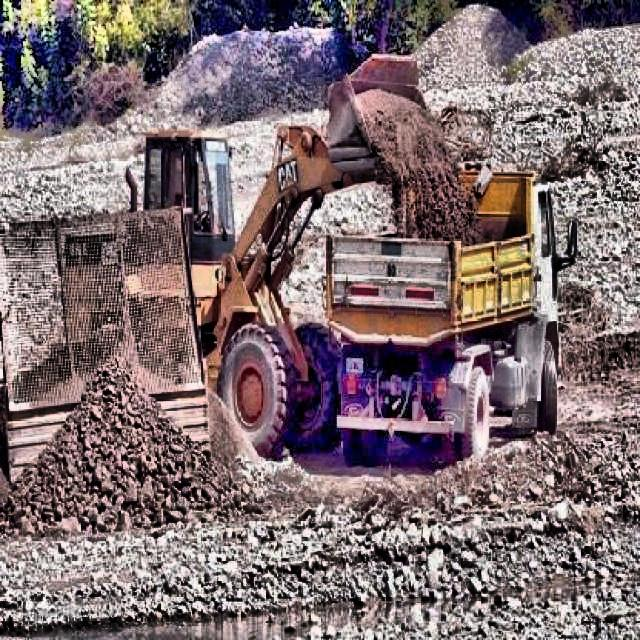dump_truck: (322, 191, 588, 448)
